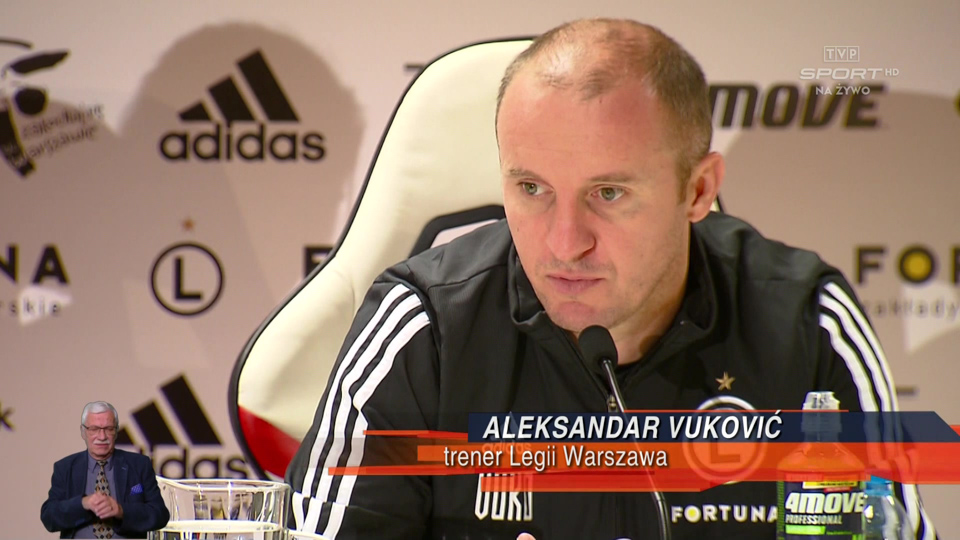Adidas: (158, 45, 326, 163)
